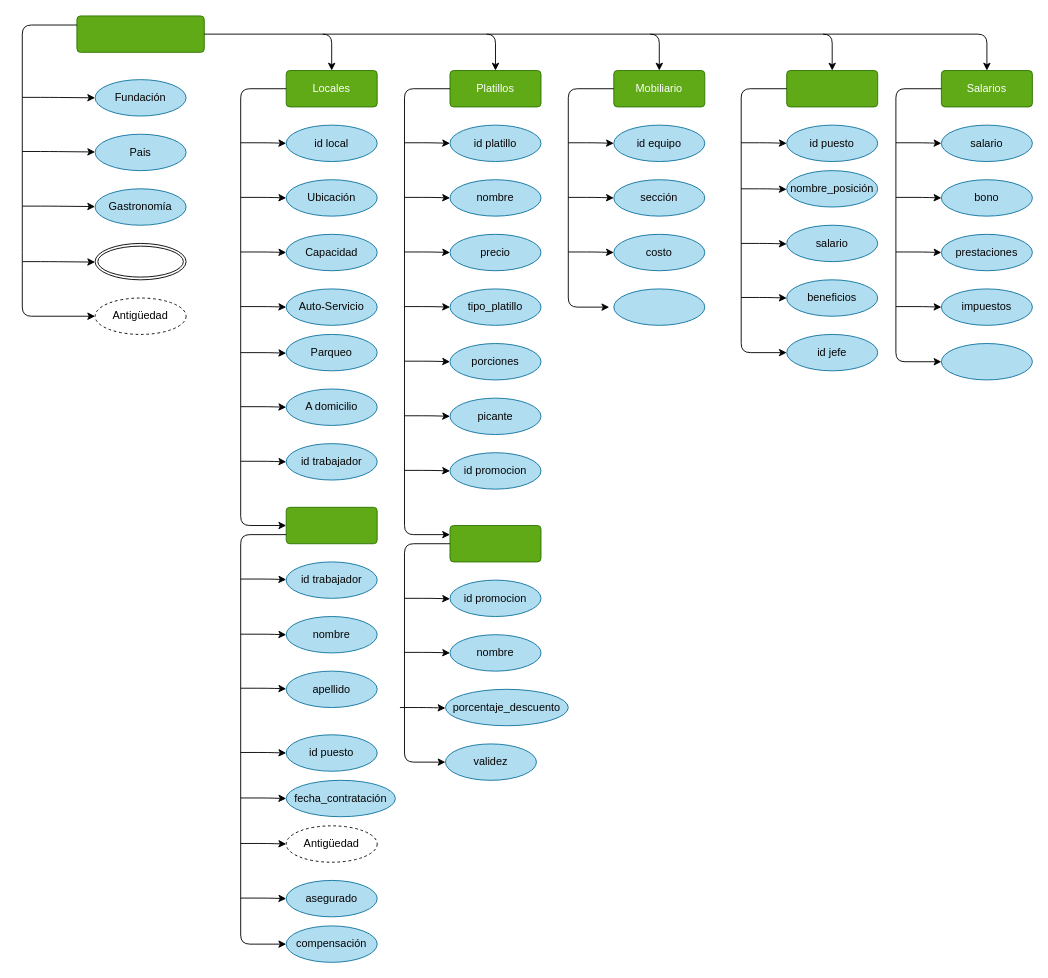
This 1048x978 diagram has some shape labels left out. The centre of each missing label's shape, as x and y in pixels:
estado: pixel 659 306
gastos_empleado: pixel 986 361
Inversores: pixel 140 261
Promociones: pixel 495 543
Puestos: pixel 832 88
Restaurante "Los Tacos Amigos": pixel 140 33
Trabajadores: pixel 331 525
